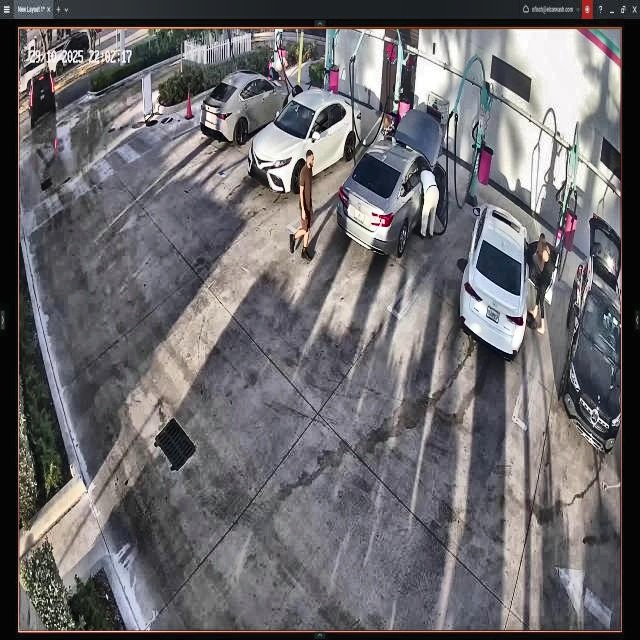Car: (337, 110, 447, 254), (459, 202, 558, 357), (253, 90, 363, 189), (199, 68, 292, 144)
